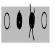correct: (16, 9, 22, 32)
not correct: (28, 3, 36, 42)
